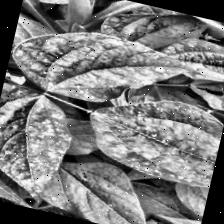Bean Rust: (7, 16, 224, 130), (79, 86, 224, 191), (0, 82, 81, 205), (5, 9, 54, 84)
